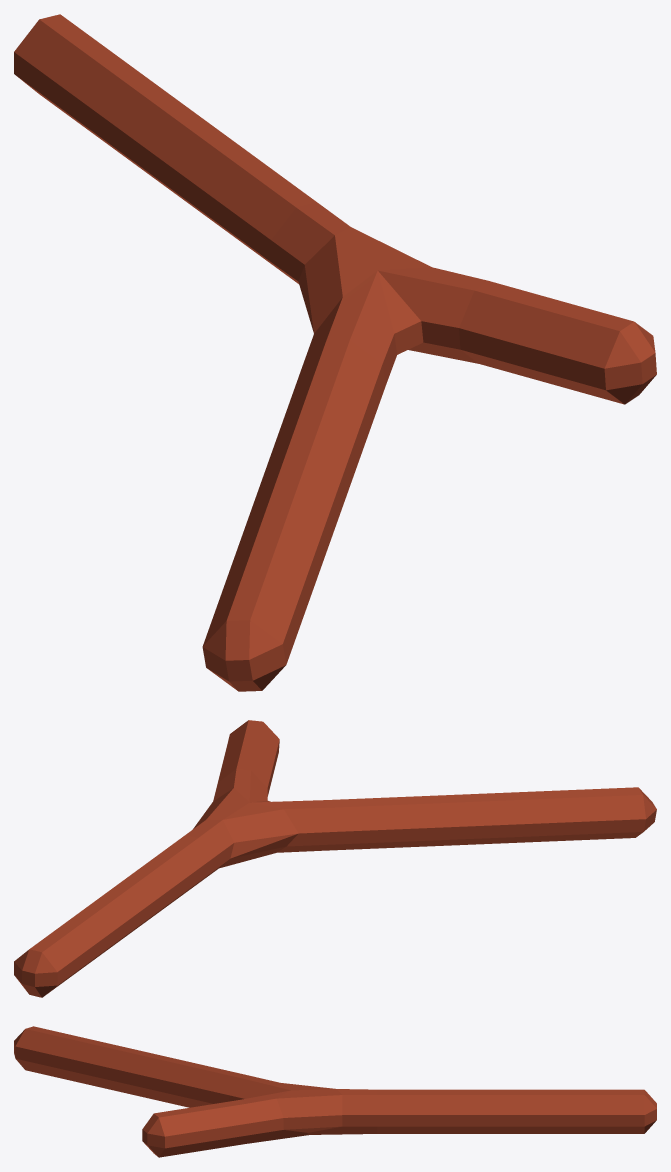
The model's file is Stick2.fbx.
3 views of the same model, one above another, from view 1: azimuth 30°, elevation 25°; view 2: azimuth 150°, elevation 25°; view 3: azimuth 270°, elevation 25° (orthographic). The views are drawn at different scales.
Parts seen in each view (by area): view 1: Vert; view 2: Vert; view 3: Vert.
Boxes of the visible parts, x1=… form: Vert: x1=14, y1=14, x2=656, y2=691; Vert: x1=14, y1=720, x2=656, y2=997; Vert: x1=14, y1=1026, x2=656, y2=1157.
Bounding box in the file's own units: 46.95 × 12.31 × 88.4.
